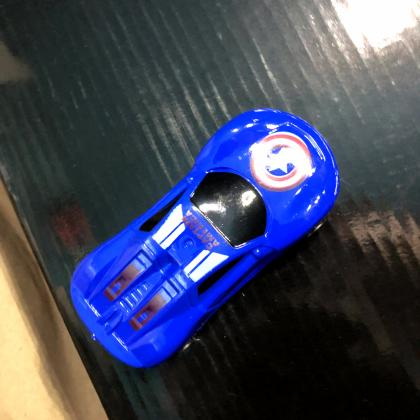Car: (69, 109, 341, 371)
